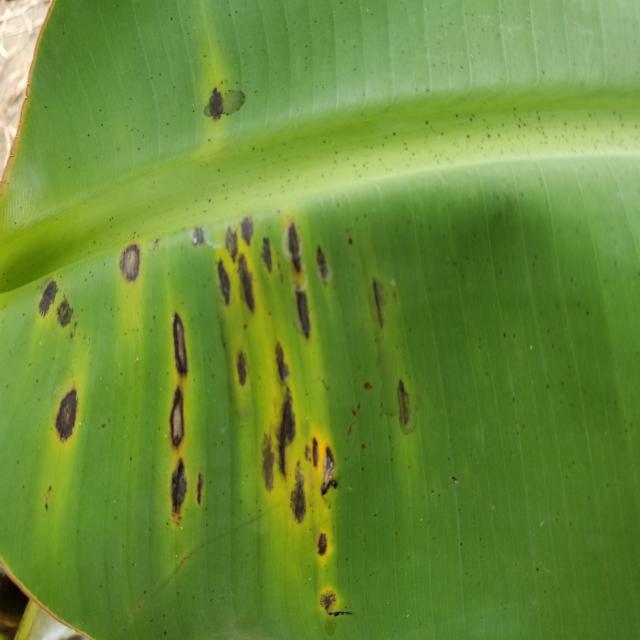Early_rust: (0, 198, 435, 625), (187, 61, 291, 150)
